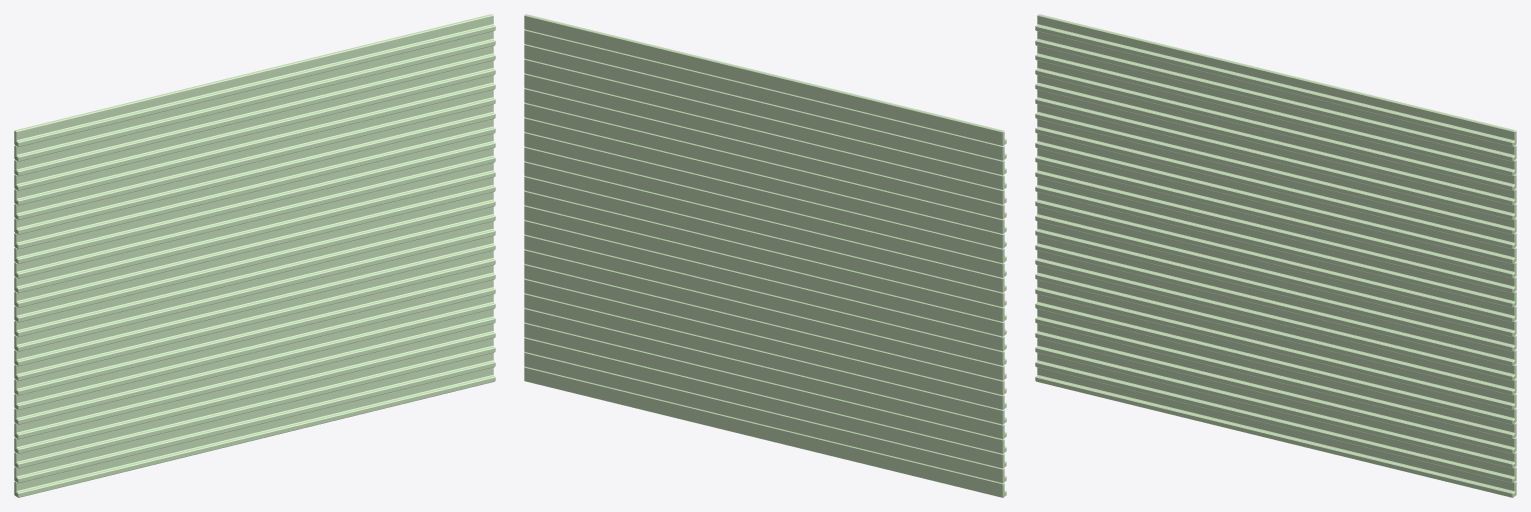
The model's file is Blinds_1.fbx.
3 views of the same model, side by side, from view 1: azimuth 30°, elevation 25°; view 2: azimuth 150°, elevation 25°; view 3: azimuth 330°, elevation 25° (orthographic).
Visible parts, largest first — view 1: Blinds_1; view 2: Blinds_1; view 3: Blinds_1.
Part boxes in pixels (<box>): Blinds_1: <box>14,14,495,497</box>; Blinds_1: <box>524,14,1006,497</box>; Blinds_1: <box>1035,14,1516,497</box>.
Bounding box in the file's own units: 366 × 268 × 5.15.
